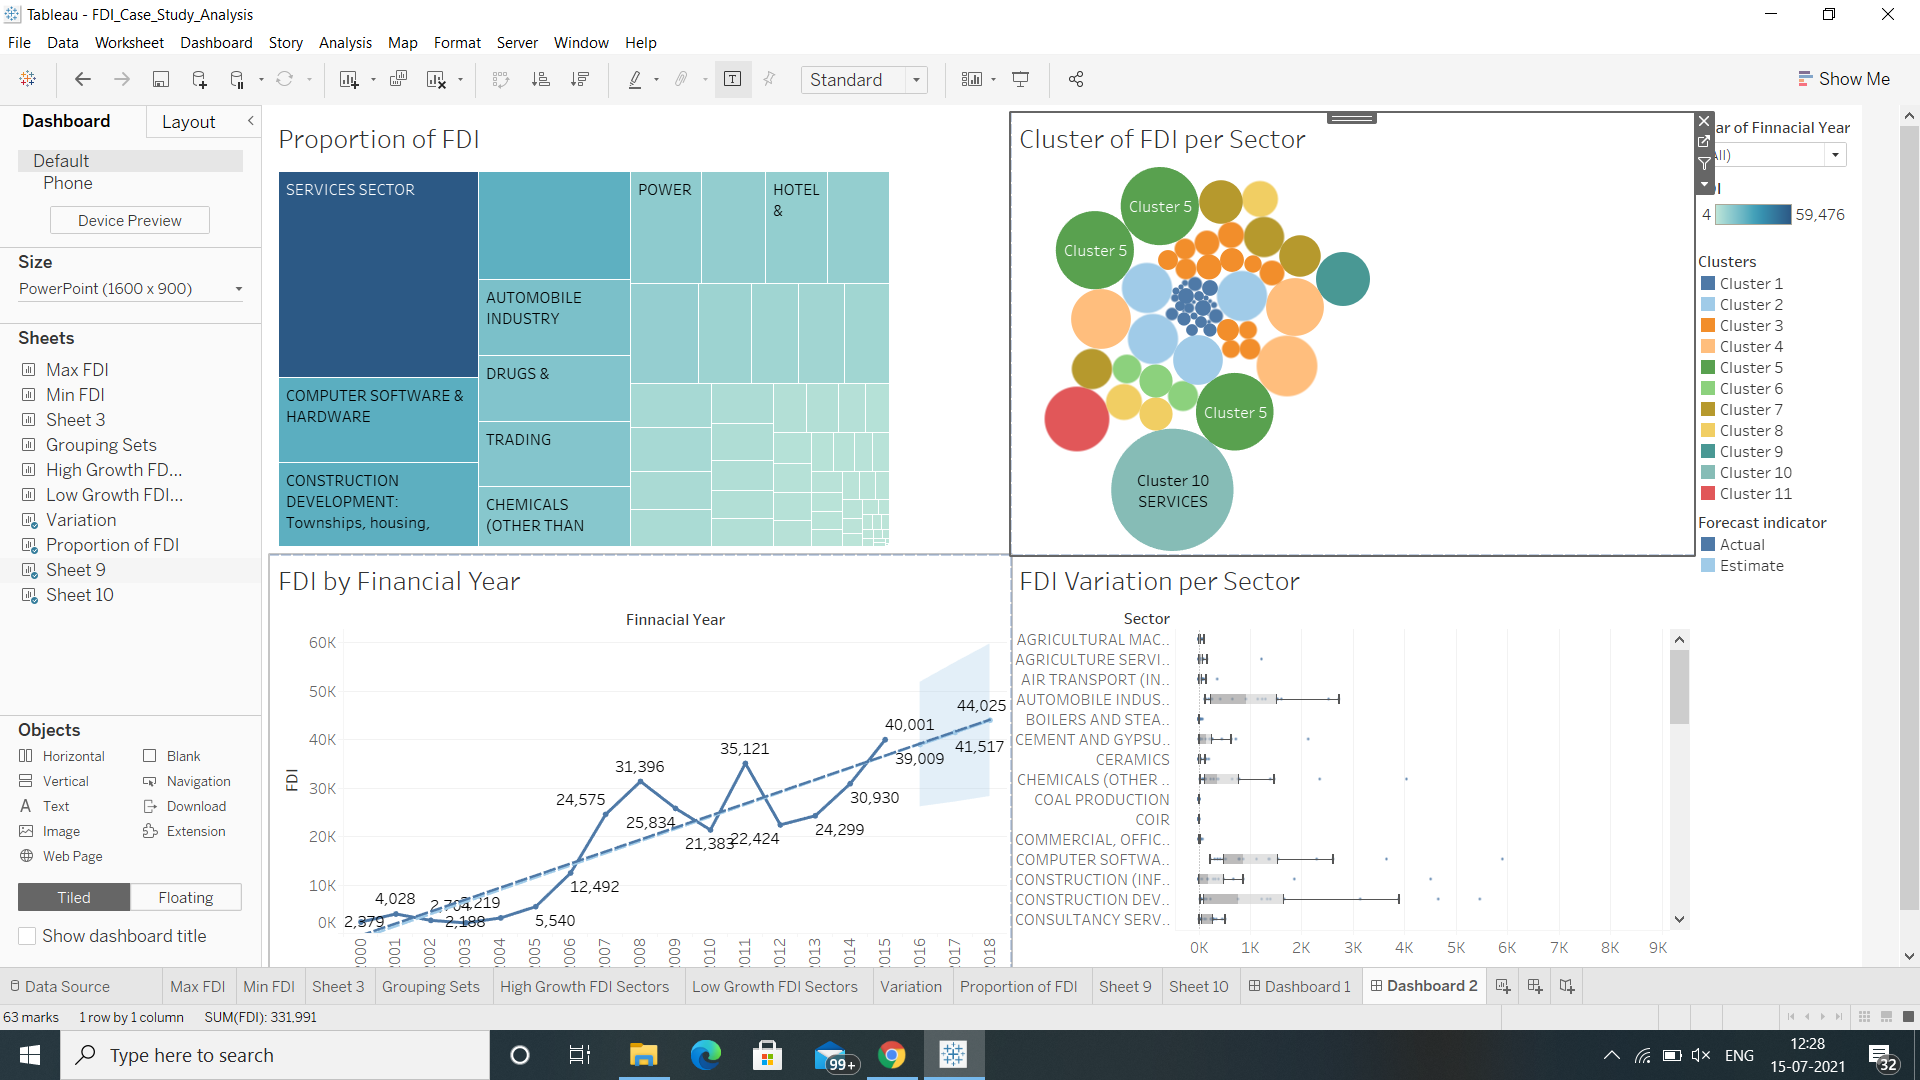

Layout of this report page (visuals, bound fields, positions):
{"tool":"tableau","page":{"name":"Dashboard 2","canvas":[1600,900],"ordinal":1},"visuals":[{"type":"worksheet","box":[0,0,1600,900]},{"type":"worksheet","param":"horz","box":[8,8,1584,884]},{"type":"worksheet","box":[8,8,1424,884]},{"type":"worksheet","title":"Proportion of FDI","mark":"Automatic","box":[8,8,741.4,442]},{"type":"worksheet","title":"Sheet 9","mark":"Circle","box":[749.4,8,682.6,442]},{"type":"worksheet","param":"vert","box":[1432,8,160,884]},{"type":"worksheet","title":"Proportion of FDI","mark":"Automatic","param":"[federated.1s7l4rr1wghr240zq81151jmb1wz].[yr:Calculation_318066766569017344:ok]","box":[1432,8,160,61]},{"type":"worksheet","title":"Proportion of FDI","mark":"Automatic","param":"[federated.1s7l4rr1wghr240zq81151jmb1wz].[sum:Pivot Field Values:qk]","box":[1432,69,160,73]},{"type":"worksheet","title":"Sheet 9","mark":"Circle","param":"[federated.1s7l4rr1wghr240zq81151jmb1wz].[none:AdhocCluster:1:ok]","box":[1432,142,160,261]},{"type":"worksheet","title":"Sheet 10","mark":"Automatic","rows":["Pivot Field Values"],"cols":["Calculation_318066766569017344"],"param":"[federated.1s7l4rr1wghr240zq81151jmb1wz].[none:Forecast Indicator:nk]","box":[1432,403,160,72]},{"type":"worksheet","title":"Sheet 10","mark":"Automatic","rows":["Pivot Field Values"],"cols":["Calculation_318066766569017344"],"box":[8,450,741.4,442]},{"type":"worksheet","title":"Variation","mark":"Circle","rows":["Sector"],"cols":["Pivot Field Values"],"box":[749.4,450,682.6,442]}]}

Visuals, with their boxes on the page's 1600x900 design canvas (x1, y1, x2, y2). These are canvas units, not pixel positions in the 1920x1080 screenshot, which may show the page scaled, cropped or inside an application window:
worksheet: (left=0, top=0, right=1600, bottom=900)
worksheet: (left=8, top=8, right=1592, bottom=892)
worksheet: (left=8, top=8, right=1432, bottom=892)
"Proportion of FDI" worksheet: (left=8, top=8, right=749, bottom=450)
"Sheet 9" worksheet (Circle marks): (left=749, top=8, right=1432, bottom=450)
worksheet: (left=1432, top=8, right=1592, bottom=892)
"Proportion of FDI" worksheet: (left=1432, top=8, right=1592, bottom=69)
"Proportion of FDI" worksheet: (left=1432, top=69, right=1592, bottom=142)
"Sheet 9" worksheet (Circle marks): (left=1432, top=142, right=1592, bottom=403)
"Sheet 10" worksheet: (left=1432, top=403, right=1592, bottom=475)
"Sheet 10" worksheet: (left=8, top=450, right=749, bottom=892)
"Variation" worksheet (Circle marks): (left=749, top=450, right=1432, bottom=892)
